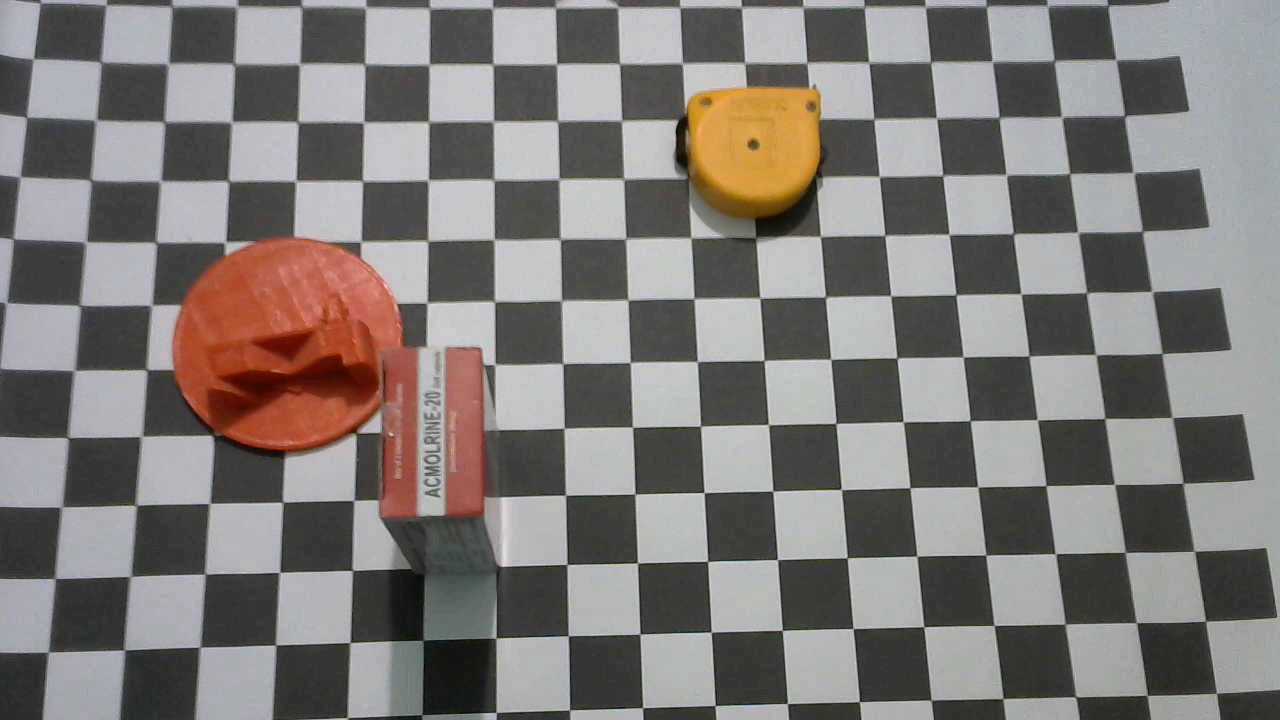blue: (674, 86, 826, 216)
green: (168, 237, 402, 455)
red: (379, 346, 504, 576)
